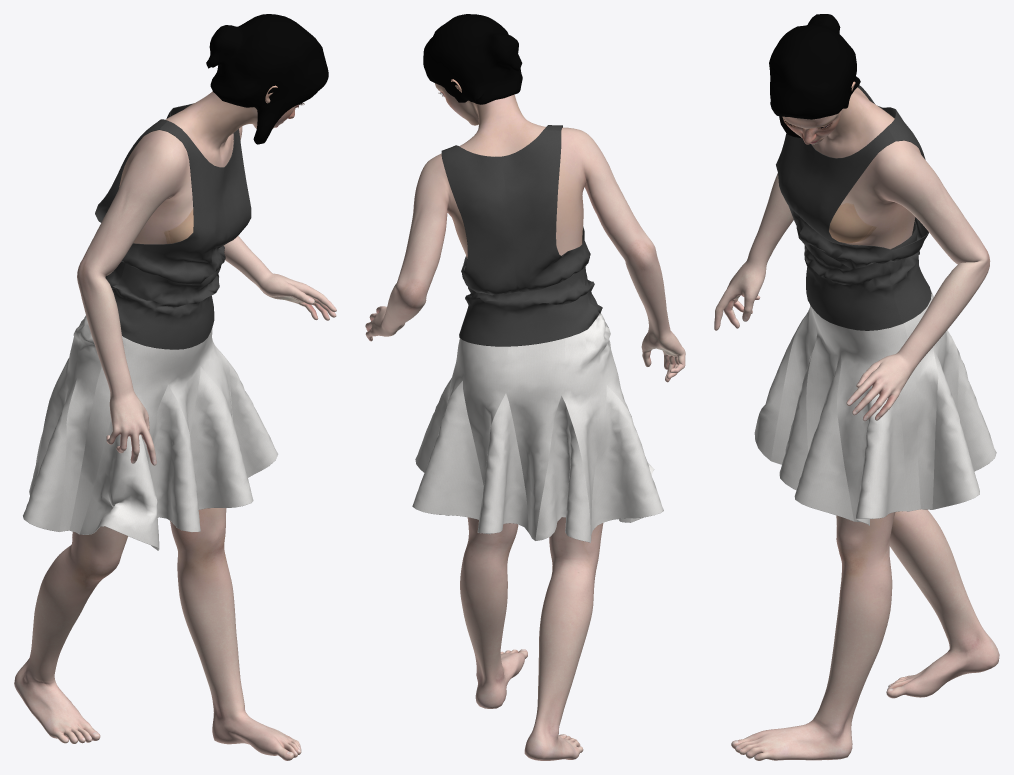
The model's file is Custom_View_9__random.obj.
3 renders of one model, left to right at view 1: azimuth 30°, elevation 25°; view 2: azimuth 150°, elevation 25°; view 3: azimuth 270°, elevation 25°, orthographic. The views are drawn at different scales.
Size of the model in its own units: 756 by 1681 by 585.
